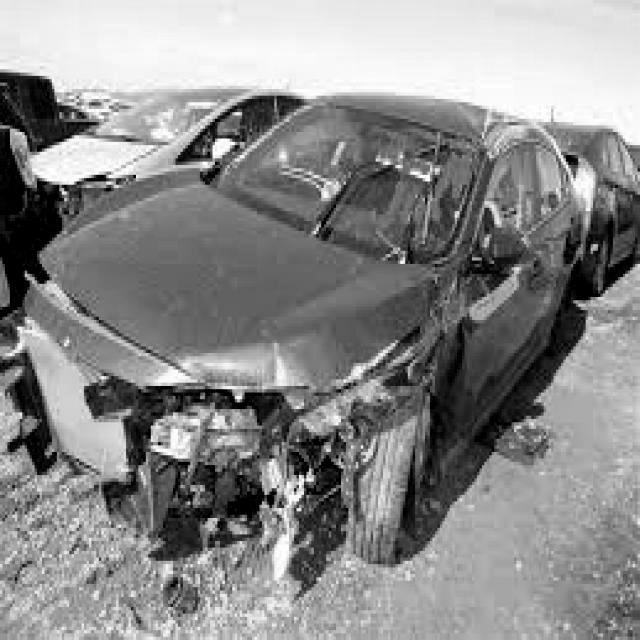Headlight-damage: (193, 389, 329, 453)
bonnet-dent: (189, 320, 412, 389)
front-bumper-dent: (77, 422, 266, 543), (24, 321, 147, 480)
roof-dent: (338, 93, 530, 139)
